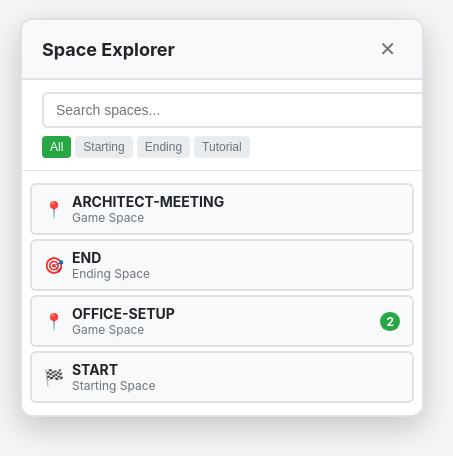
Scenario: SpaceExplorerPanel › should handle ending space type filter
Click the button "Ending": [163, 147] box 137,136 -> 190,158
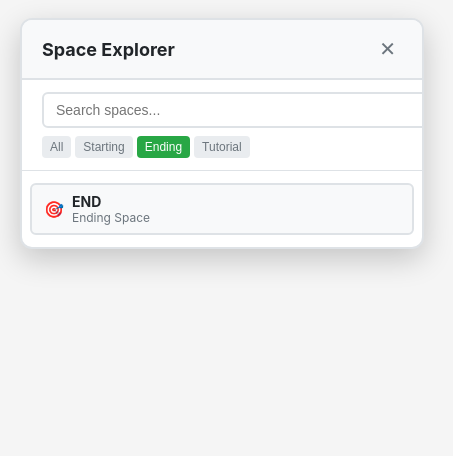
Check: the text "END" is shown, box 72,193 -> 101,210
Check: the text "OFFICE-SETUP" is gone
